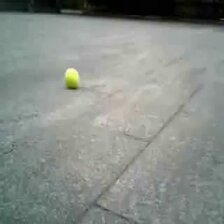tennis: (64, 68, 80, 87)
